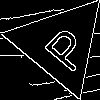P: (35, 19, 94, 75)
